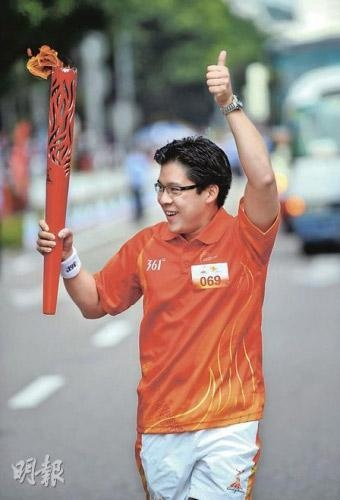fire: (23, 42, 64, 80)
